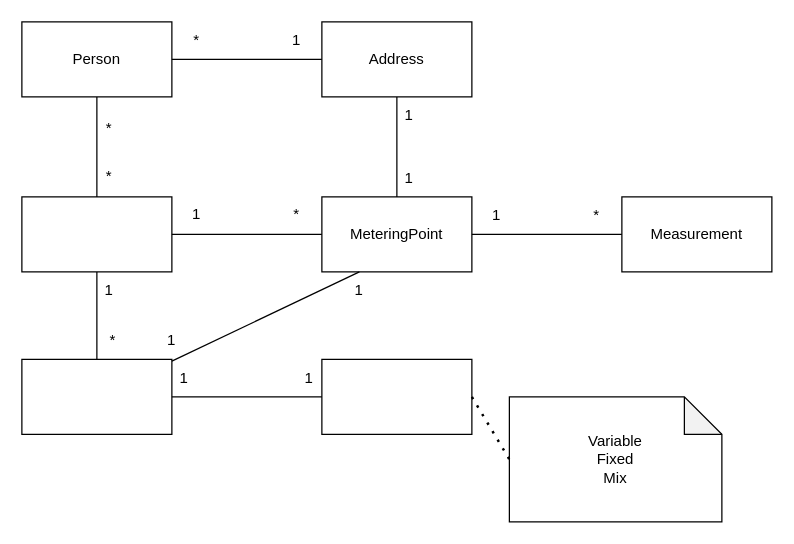
Image size: 794x544. Some labels were removed from this diagram. The shapes that lost their labels are listed below. From the top down, each one's centre as x and y in pixels, then its label:
At (96,234): "Customer Relation".
At (96,396): "Contract".
At (396,396): "Contract Type".
